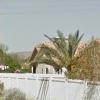Palm tree: (45, 16, 85, 77)
